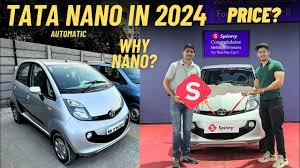Nano: (12, 61, 130, 168)
